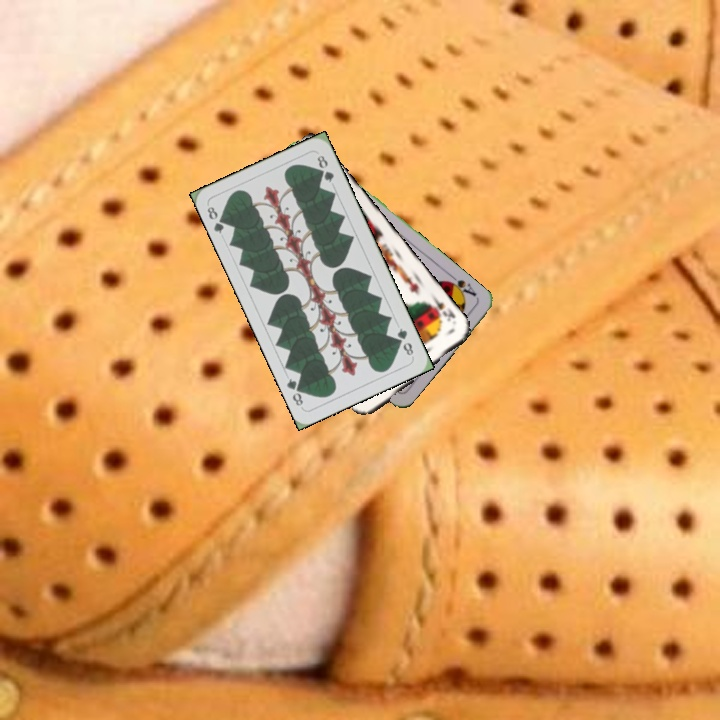G8: (203, 202, 229, 236), (393, 324, 416, 360)
SA: (441, 271, 479, 301)
SK: (424, 293, 458, 324)
